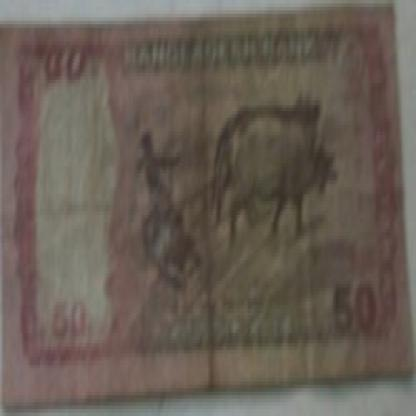Fifty taka: (328, 274, 386, 357), (48, 288, 105, 350)
